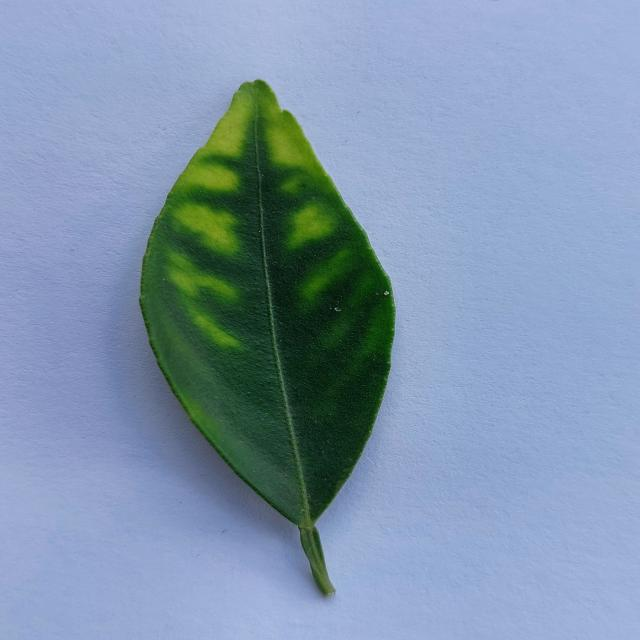greening: (140, 81, 394, 593)
